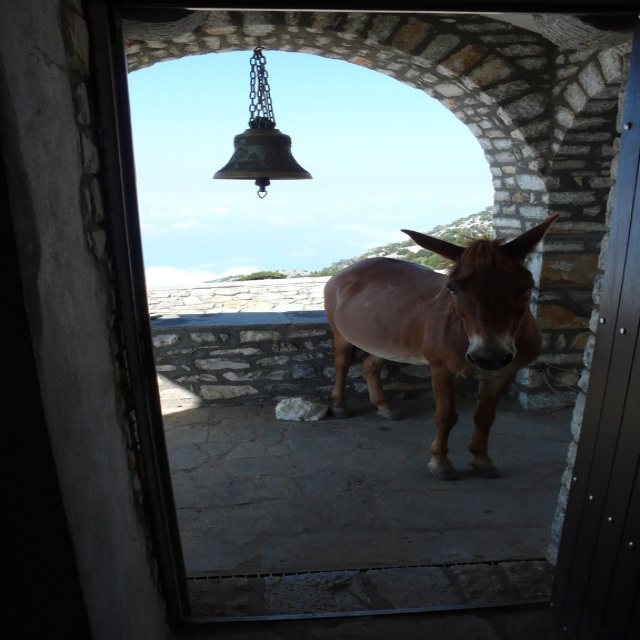Mule: (316, 219, 562, 471)
